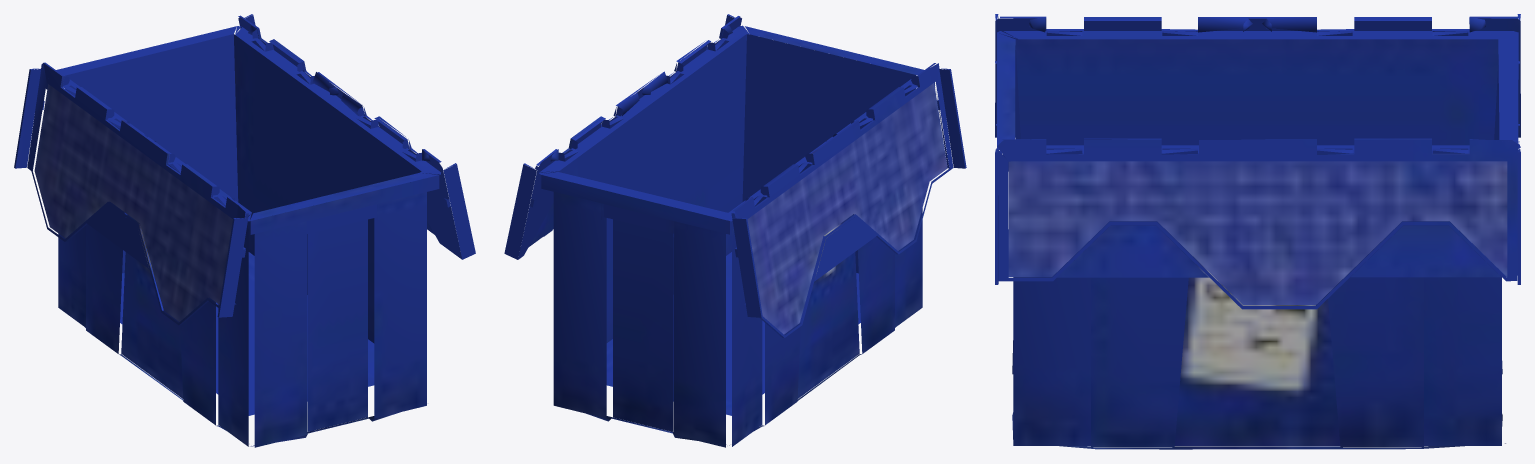
The model's file is plastic_container.glb.
The picture shows the model from 3 angles, left to right: view 1: azimuth 30°, elevation 25°; view 2: azimuth 150°, elevation 25°; view 3: azimuth 270°, elevation 25°; orthographic projection. The views are drawn at different scales.
Parts seen in each view (by area): view 1: plastic_container; view 2: plastic_container; view 3: plastic_container.
Boxes of the visible parts, x1,y1,x2,y2 form: plastic_container: (14,14,475,447); plastic_container: (504,14,966,447); plastic_container: (995,14,1520,449).
Size of the model in its own units: 0.4572 by 0.4213 by 0.6315.
Materials: 1 (1 with a texture image).
